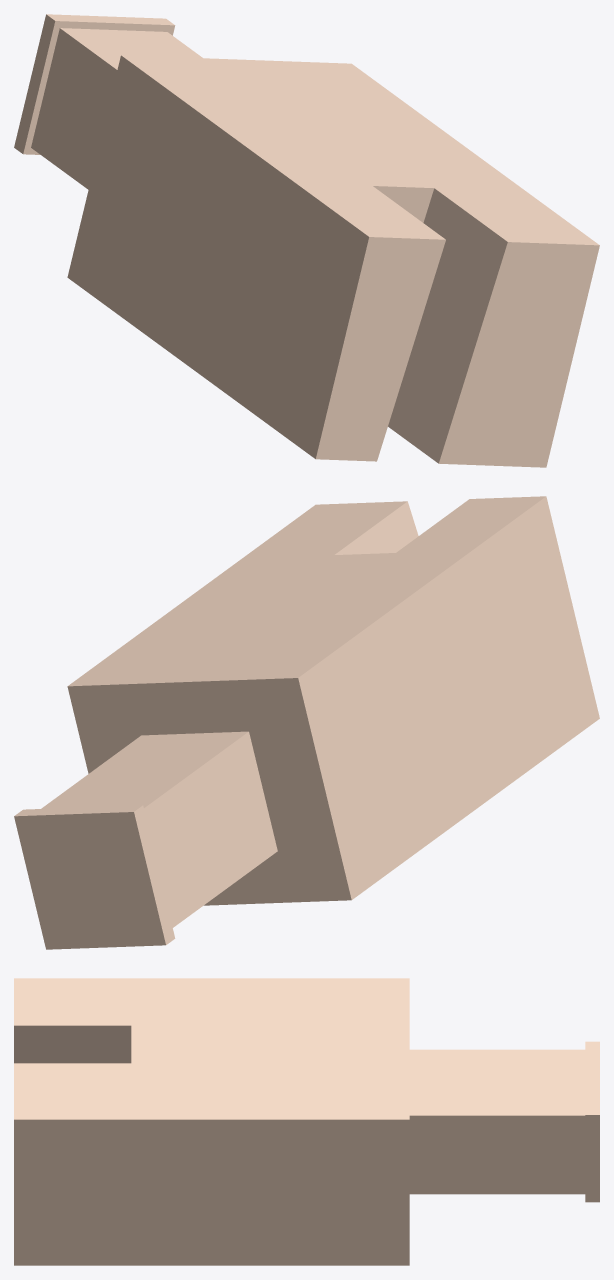
Rendered from Pont sautoir limacon heures.obj.
The picture shows the model from 3 angles, top to bottom: view 1: azimuth 30°, elevation 25°; view 2: azimuth 150°, elevation 25°; view 3: azimuth 270°, elevation 25°; orthographic projection. The views are drawn at different scales.
Parts seen in each view (by area): view 1: Face_5, Face_4, Face_1, Face_7, Face_18, Face_8, Face_11, Face_12, Face_16, Face_20, Face_13; view 2: Face_5, Face_4, Face_2, Face_17, Face_8, Face_11, Face_18, Face_16, Face_13; view 3: Face_3, Face_4, Face_10, Face_11, Face_19, Face_14, Face_13.
Boxes of the visible parts, bbox=[...] form: Face_5: bbox=[67, 55, 368, 458]; Face_4: bbox=[121, 55, 599, 245]; Face_1: bbox=[439, 242, 599, 467]; Face_7: bbox=[316, 237, 445, 461]; Face_18: bbox=[388, 188, 507, 463]; Face_8: bbox=[31, 28, 117, 189]; Face_11: bbox=[60, 28, 202, 69]; Face_12: bbox=[23, 21, 175, 154]; Face_16: bbox=[14, 14, 55, 153]; Face_20: bbox=[373, 186, 433, 222]; Face_13: bbox=[46, 14, 174, 25]; Face_5: bbox=[298, 496, 599, 899]; Face_4: bbox=[68, 496, 545, 686]; Face_2: bbox=[67, 678, 351, 905]; Face_17: bbox=[14, 812, 165, 949]; Face_8: bbox=[144, 732, 277, 927]; Face_11: bbox=[41, 731, 248, 808]; Face_18: bbox=[335, 501, 418, 554]; Face_16: bbox=[134, 805, 175, 944]; Face_13: bbox=[14, 805, 142, 816]; Face_3: bbox=[14, 1119, 409, 1265]; Face_4: bbox=[14, 978, 409, 1119]; Face_10: bbox=[409, 1115, 585, 1194]; Face_11: bbox=[409, 1049, 585, 1115]; Face_19: bbox=[14, 1025, 131, 1063]; Face_14: bbox=[585, 1115, 599, 1202]; Face_13: bbox=[585, 1041, 599, 1114].
Size of the model in its own units: 0.00893 by 0.00822 by 0.02.
